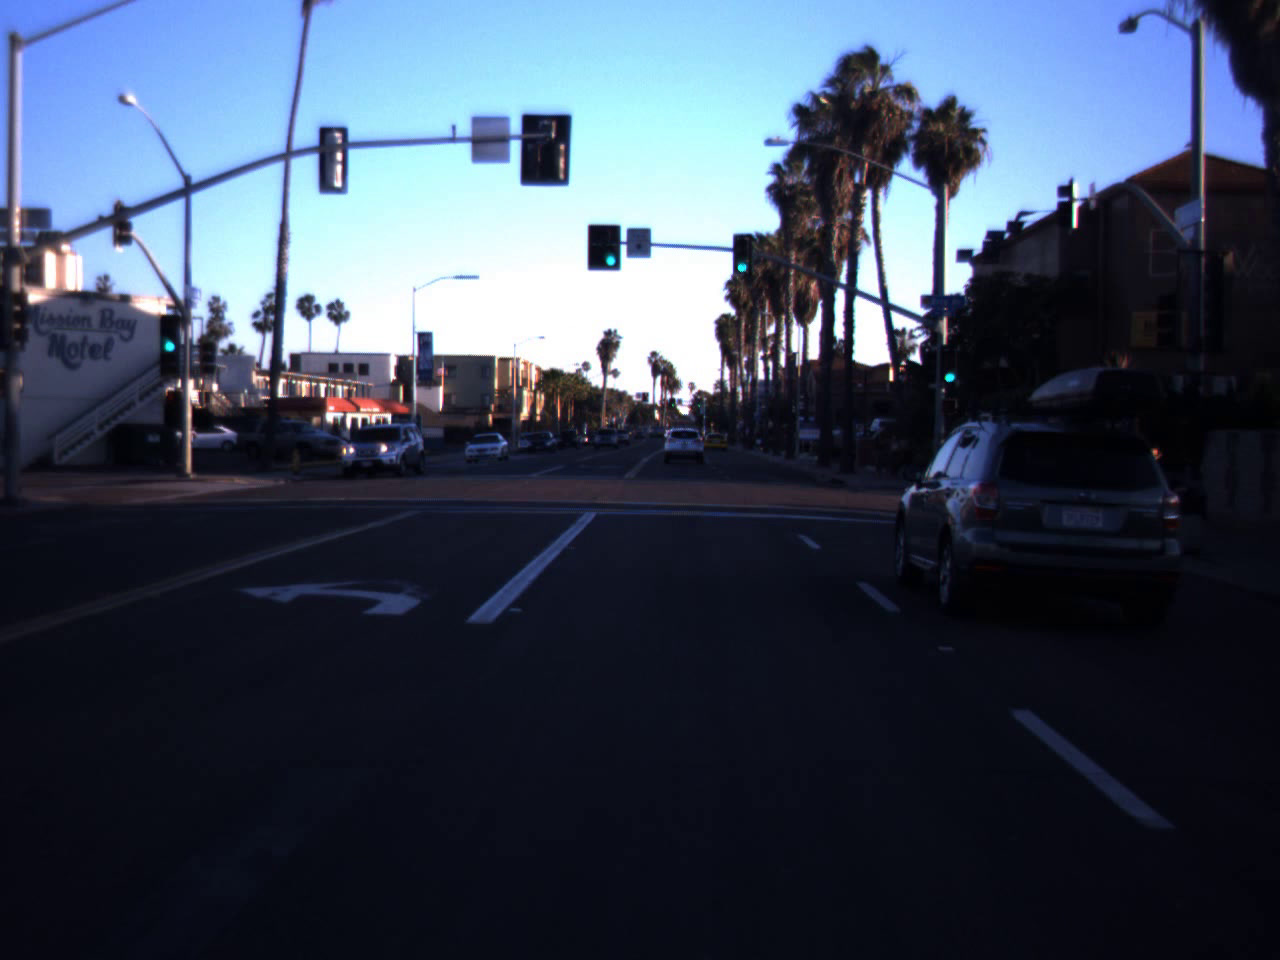go: (158, 310, 182, 355), (730, 236, 754, 276), (938, 346, 962, 386), (600, 229, 621, 269)
